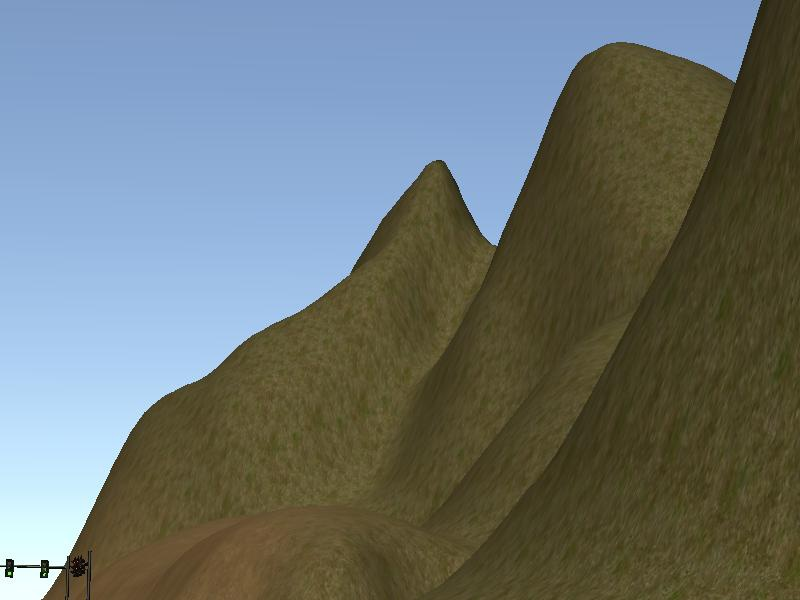Green: (4, 557, 14, 579), (40, 559, 50, 579)
